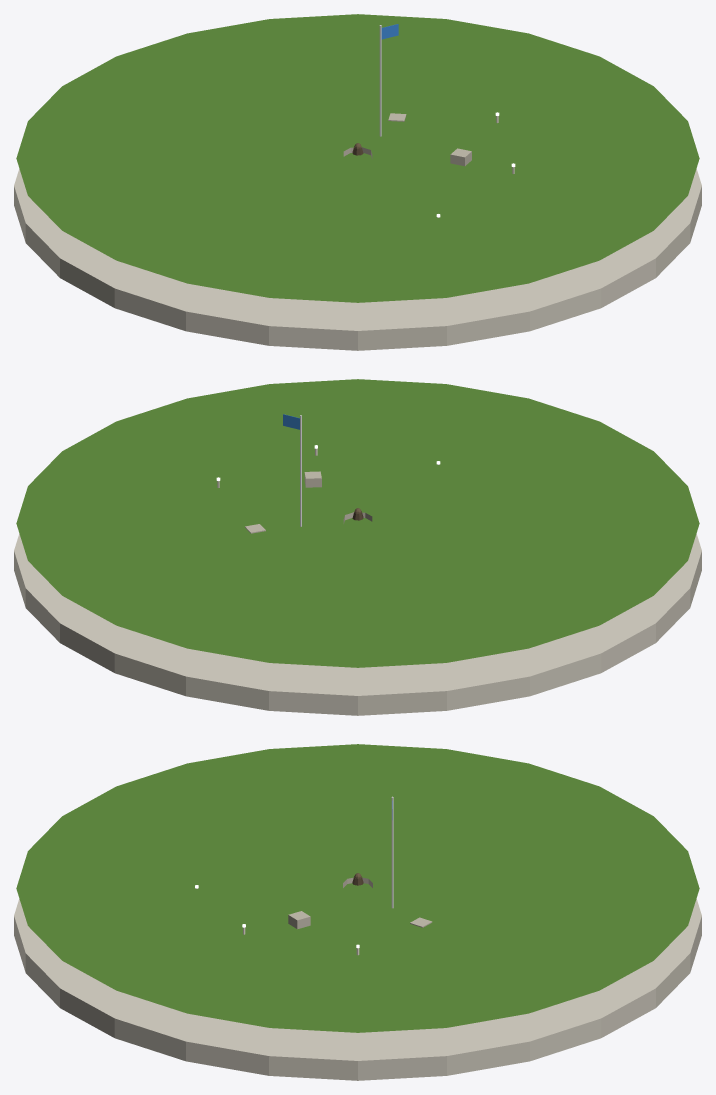
File: rb_plazacultura.glb
The picture shows the model from 3 angles, top to bottom: view 1: azimuth 30°, elevation 25°; view 2: azimuth 150°, elevation 25°; view 3: azimuth 270°, elevation 25°; orthographic projection.
Parts seen in each view (by area): view 1: rb_plazacultura_lod0; view 2: rb_plazacultura_lod0; view 3: rb_plazacultura_lod0.
Boxes of the visible parts, x1,y1,x2,y2 form: rb_plazacultura_lod0: (14,14,701,350); rb_plazacultura_lod0: (14,379,701,715); rb_plazacultura_lod0: (14,744,701,1080).
Size of what is drawn, in the model's own units: 59.8 by 15.13 by 59.8.
